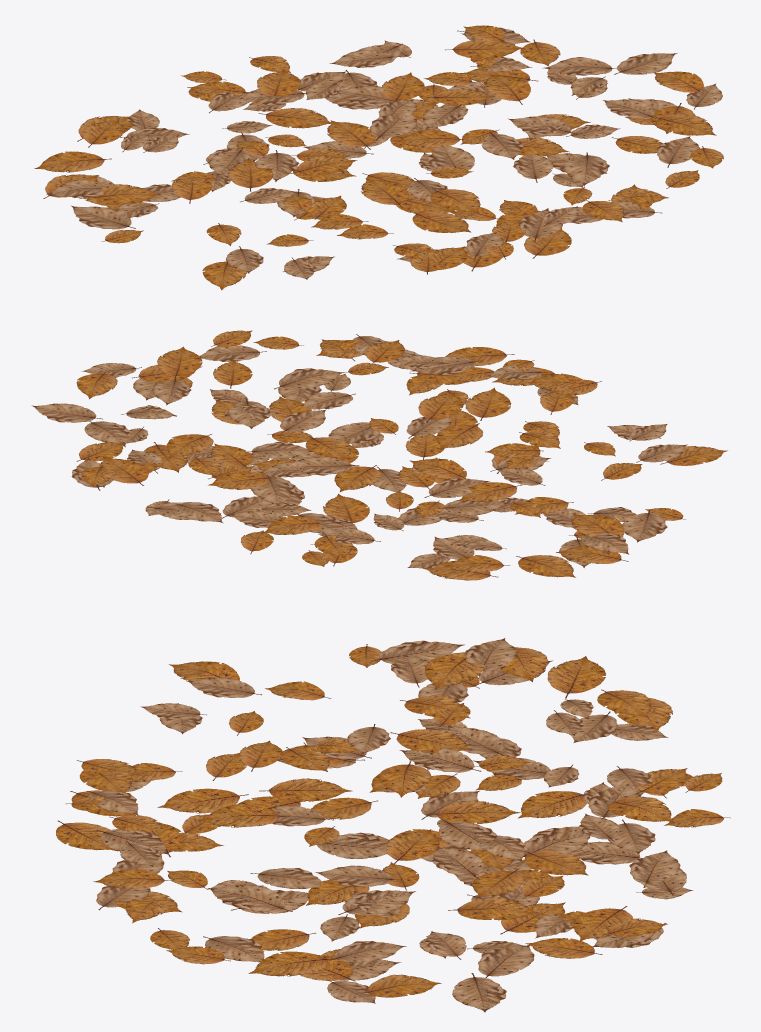
File: Beech_LeafLitter_Patch_01_LOD1.fbx
The picture shows the model from 3 angles, top to bottom: view 1: azimuth 30°, elevation 25°; view 2: azimuth 150°, elevation 25°; view 3: azimuth 270°, elevation 25°; orthographic projection. The views are drawn at different scales.
Visible parts, largest first — view 1: Beech_LeafLitter_Patch_01_LOD1_Mesh; view 2: Beech_LeafLitter_Patch_01_LOD1_Mesh; view 3: Beech_LeafLitter_Patch_01_LOD1_Mesh.
Boxes of the visible parts, <box> form: Beech_LeafLitter_Patch_01_LOD1_Mesh: <box>34,25,723,290</box>; Beech_LeafLitter_Patch_01_LOD1_Mesh: <box>31,330,727,580</box>; Beech_LeafLitter_Patch_01_LOD1_Mesh: <box>56,638,730,1012</box>.
Bounding box in the file's own units: 148 × 2.02 × 116.
Materials: 1 (1 with a texture image).
